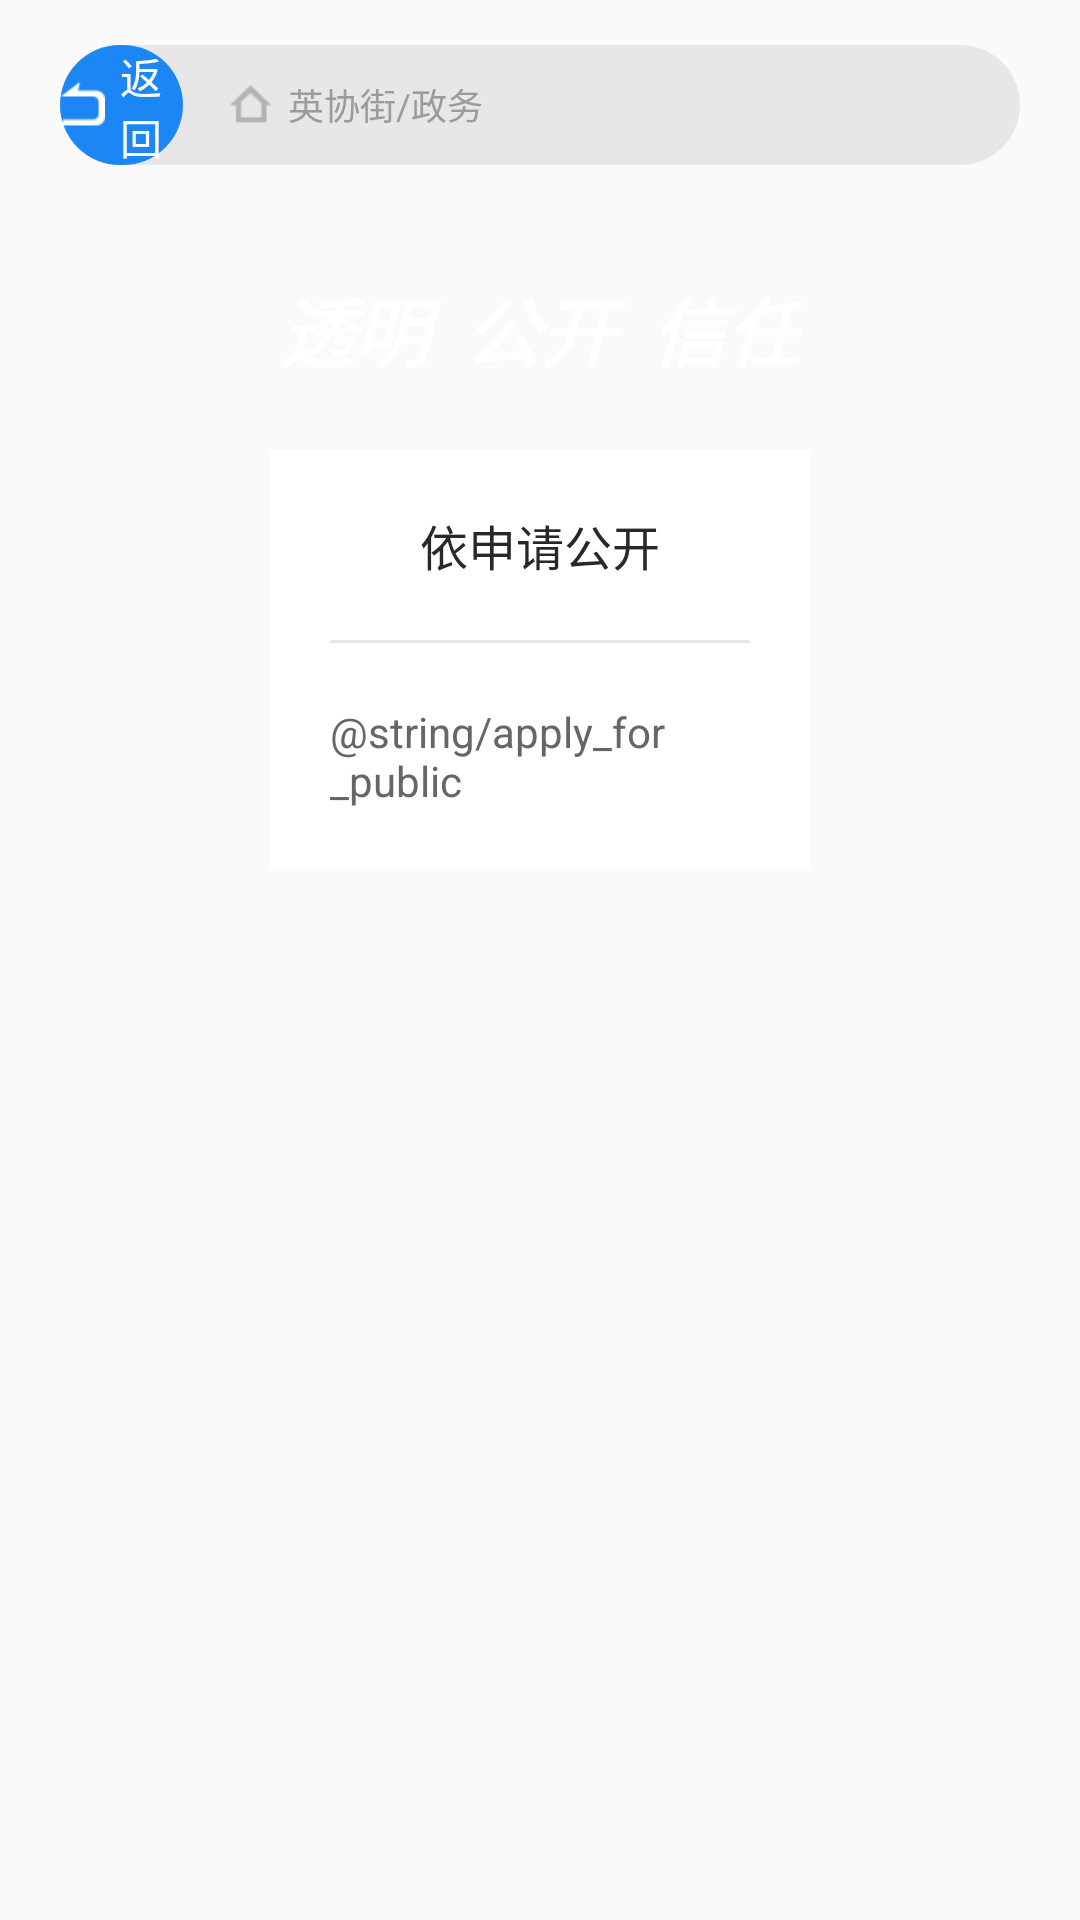

Locate icon controls on the screen. Image size 1080px×1920px, boxes as box=[x1, y1, x2, y2].
crumb home: box=[231, 86, 270, 122]
